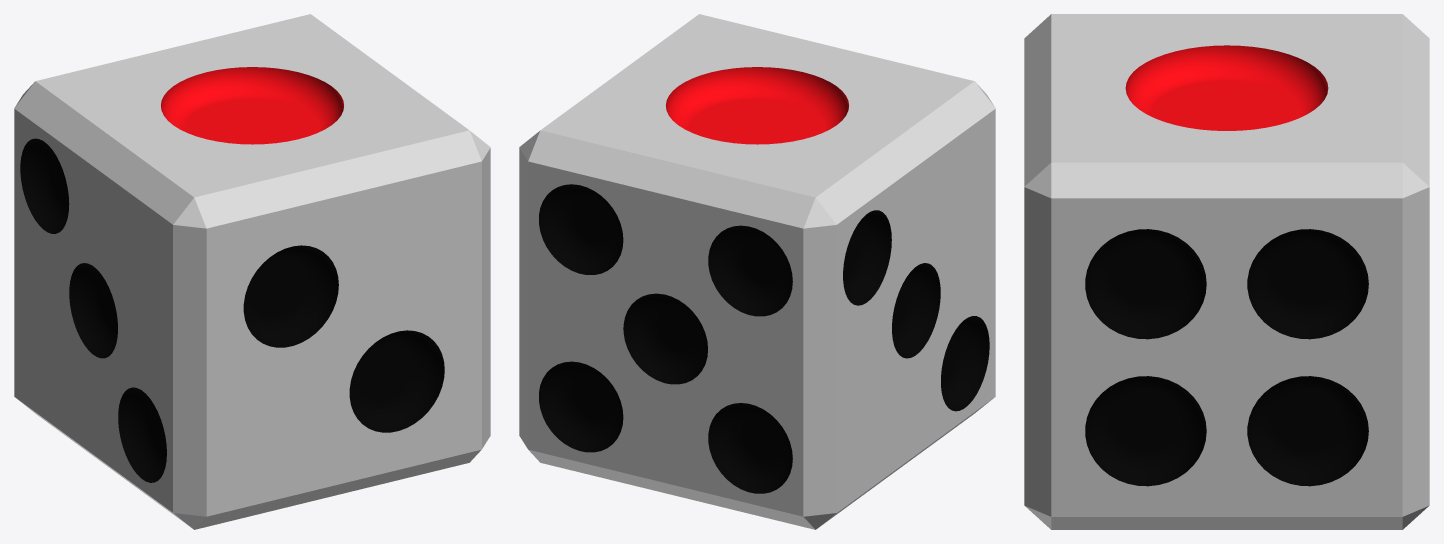
The model's file is Partsaikoro.glb.
3 views of the same model, side by side, from view 1: azimuth 30°, elevation 25°; view 2: azimuth 150°, elevation 25°; view 3: azimuth 270°, elevation 25° (orthographic). The views are drawn at different scales.
Visible parts, largest first — view 1: Partsaikoro; view 2: Partsaikoro; view 3: Partsaikoro.
Part boxes in pixels (left/top/right/bottom): Partsaikoro: left=14, top=14, right=490, bottom=529; Partsaikoro: left=519, top=14, right=995, bottom=529; Partsaikoro: left=1024, top=14, right=1429, bottom=529.
Bounding box in the file's own units: 0.03 × 0.03 × 0.03.
